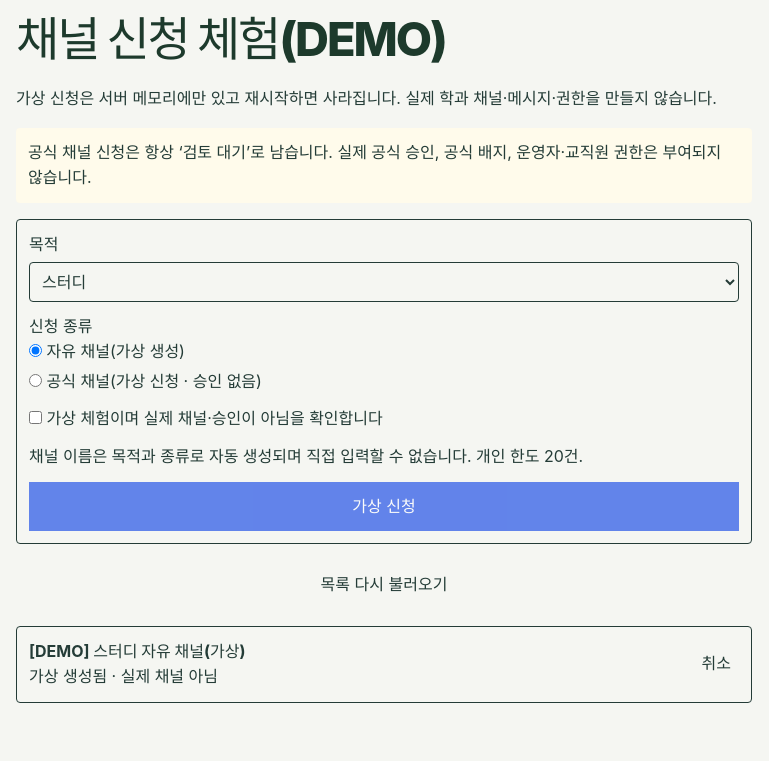
가상 채널 신청 › 취소는 현재 개정을 보내고 409면 목록을 다시 불러온다
Click the button "취소": (716, 664) [694, 644, 739, 685]
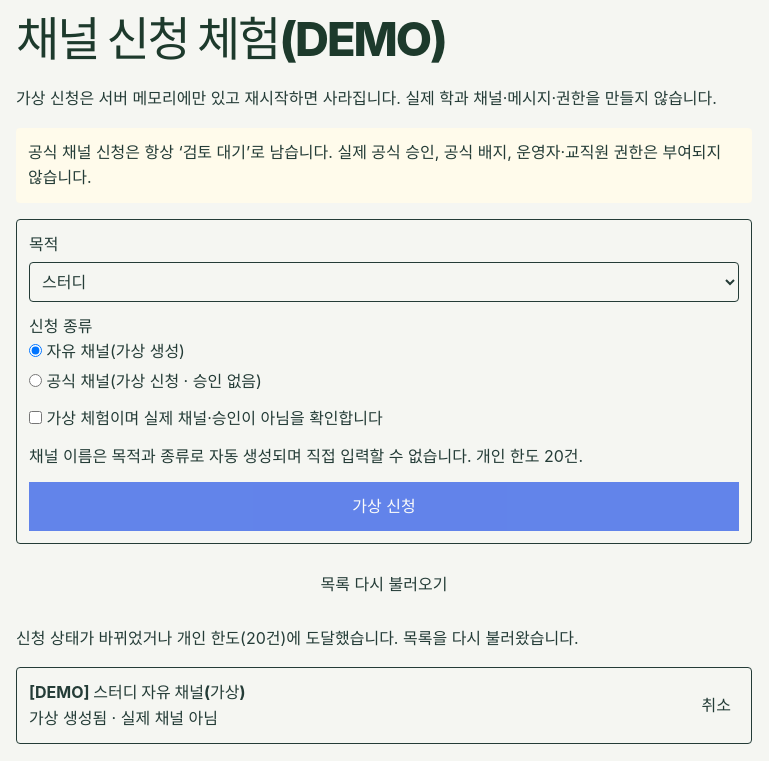
Now the message shows "목록을 다시 불러왔습니다", box [16, 628, 578, 648]
